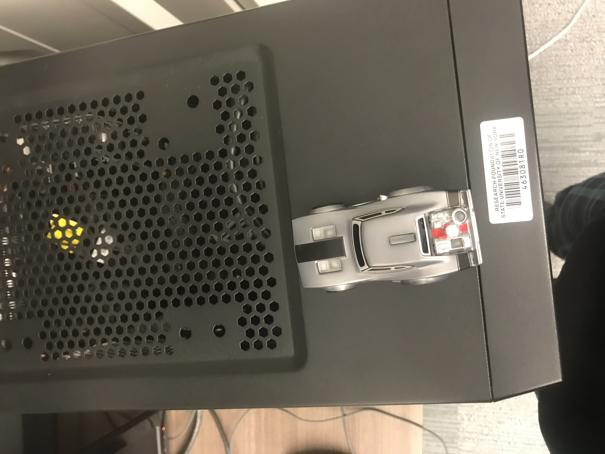Charger: (290, 181, 485, 294)
